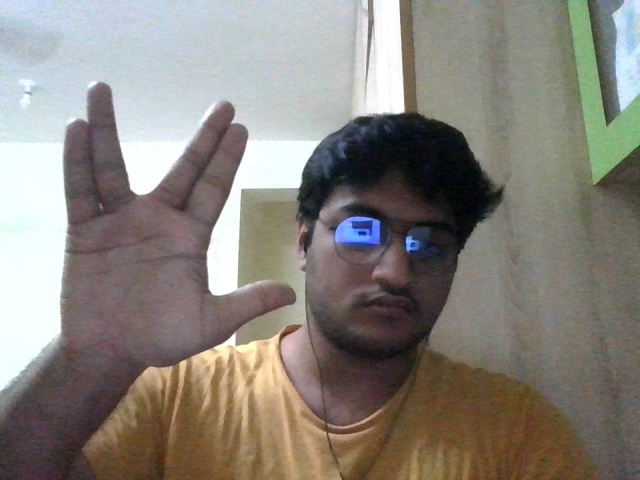livelong: (63, 81, 297, 367)
